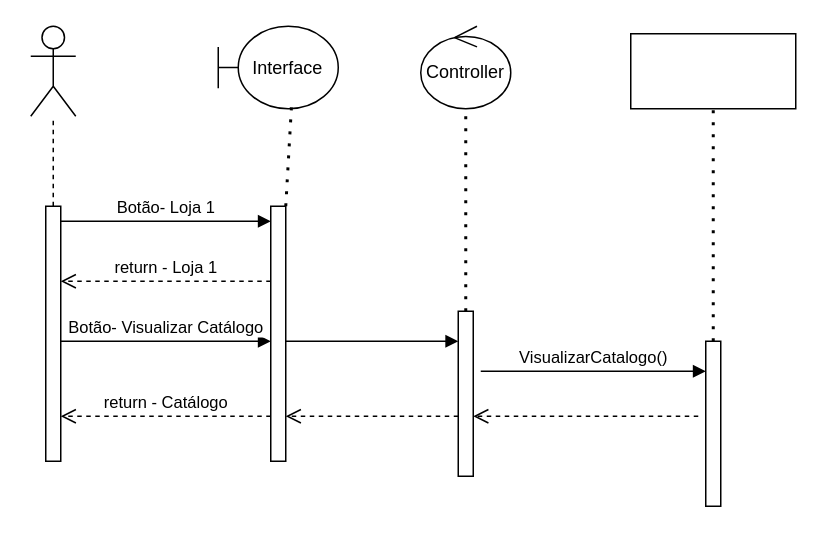
Image size: 822x533. Some labels were removed from this diagram. The shapes that lost their labels are listed below. From the top down, each one's centre as x and y in pixels, then its label:
At pixel 52 70: "Cliente".
At pixel 712 70: "Catálogo".
